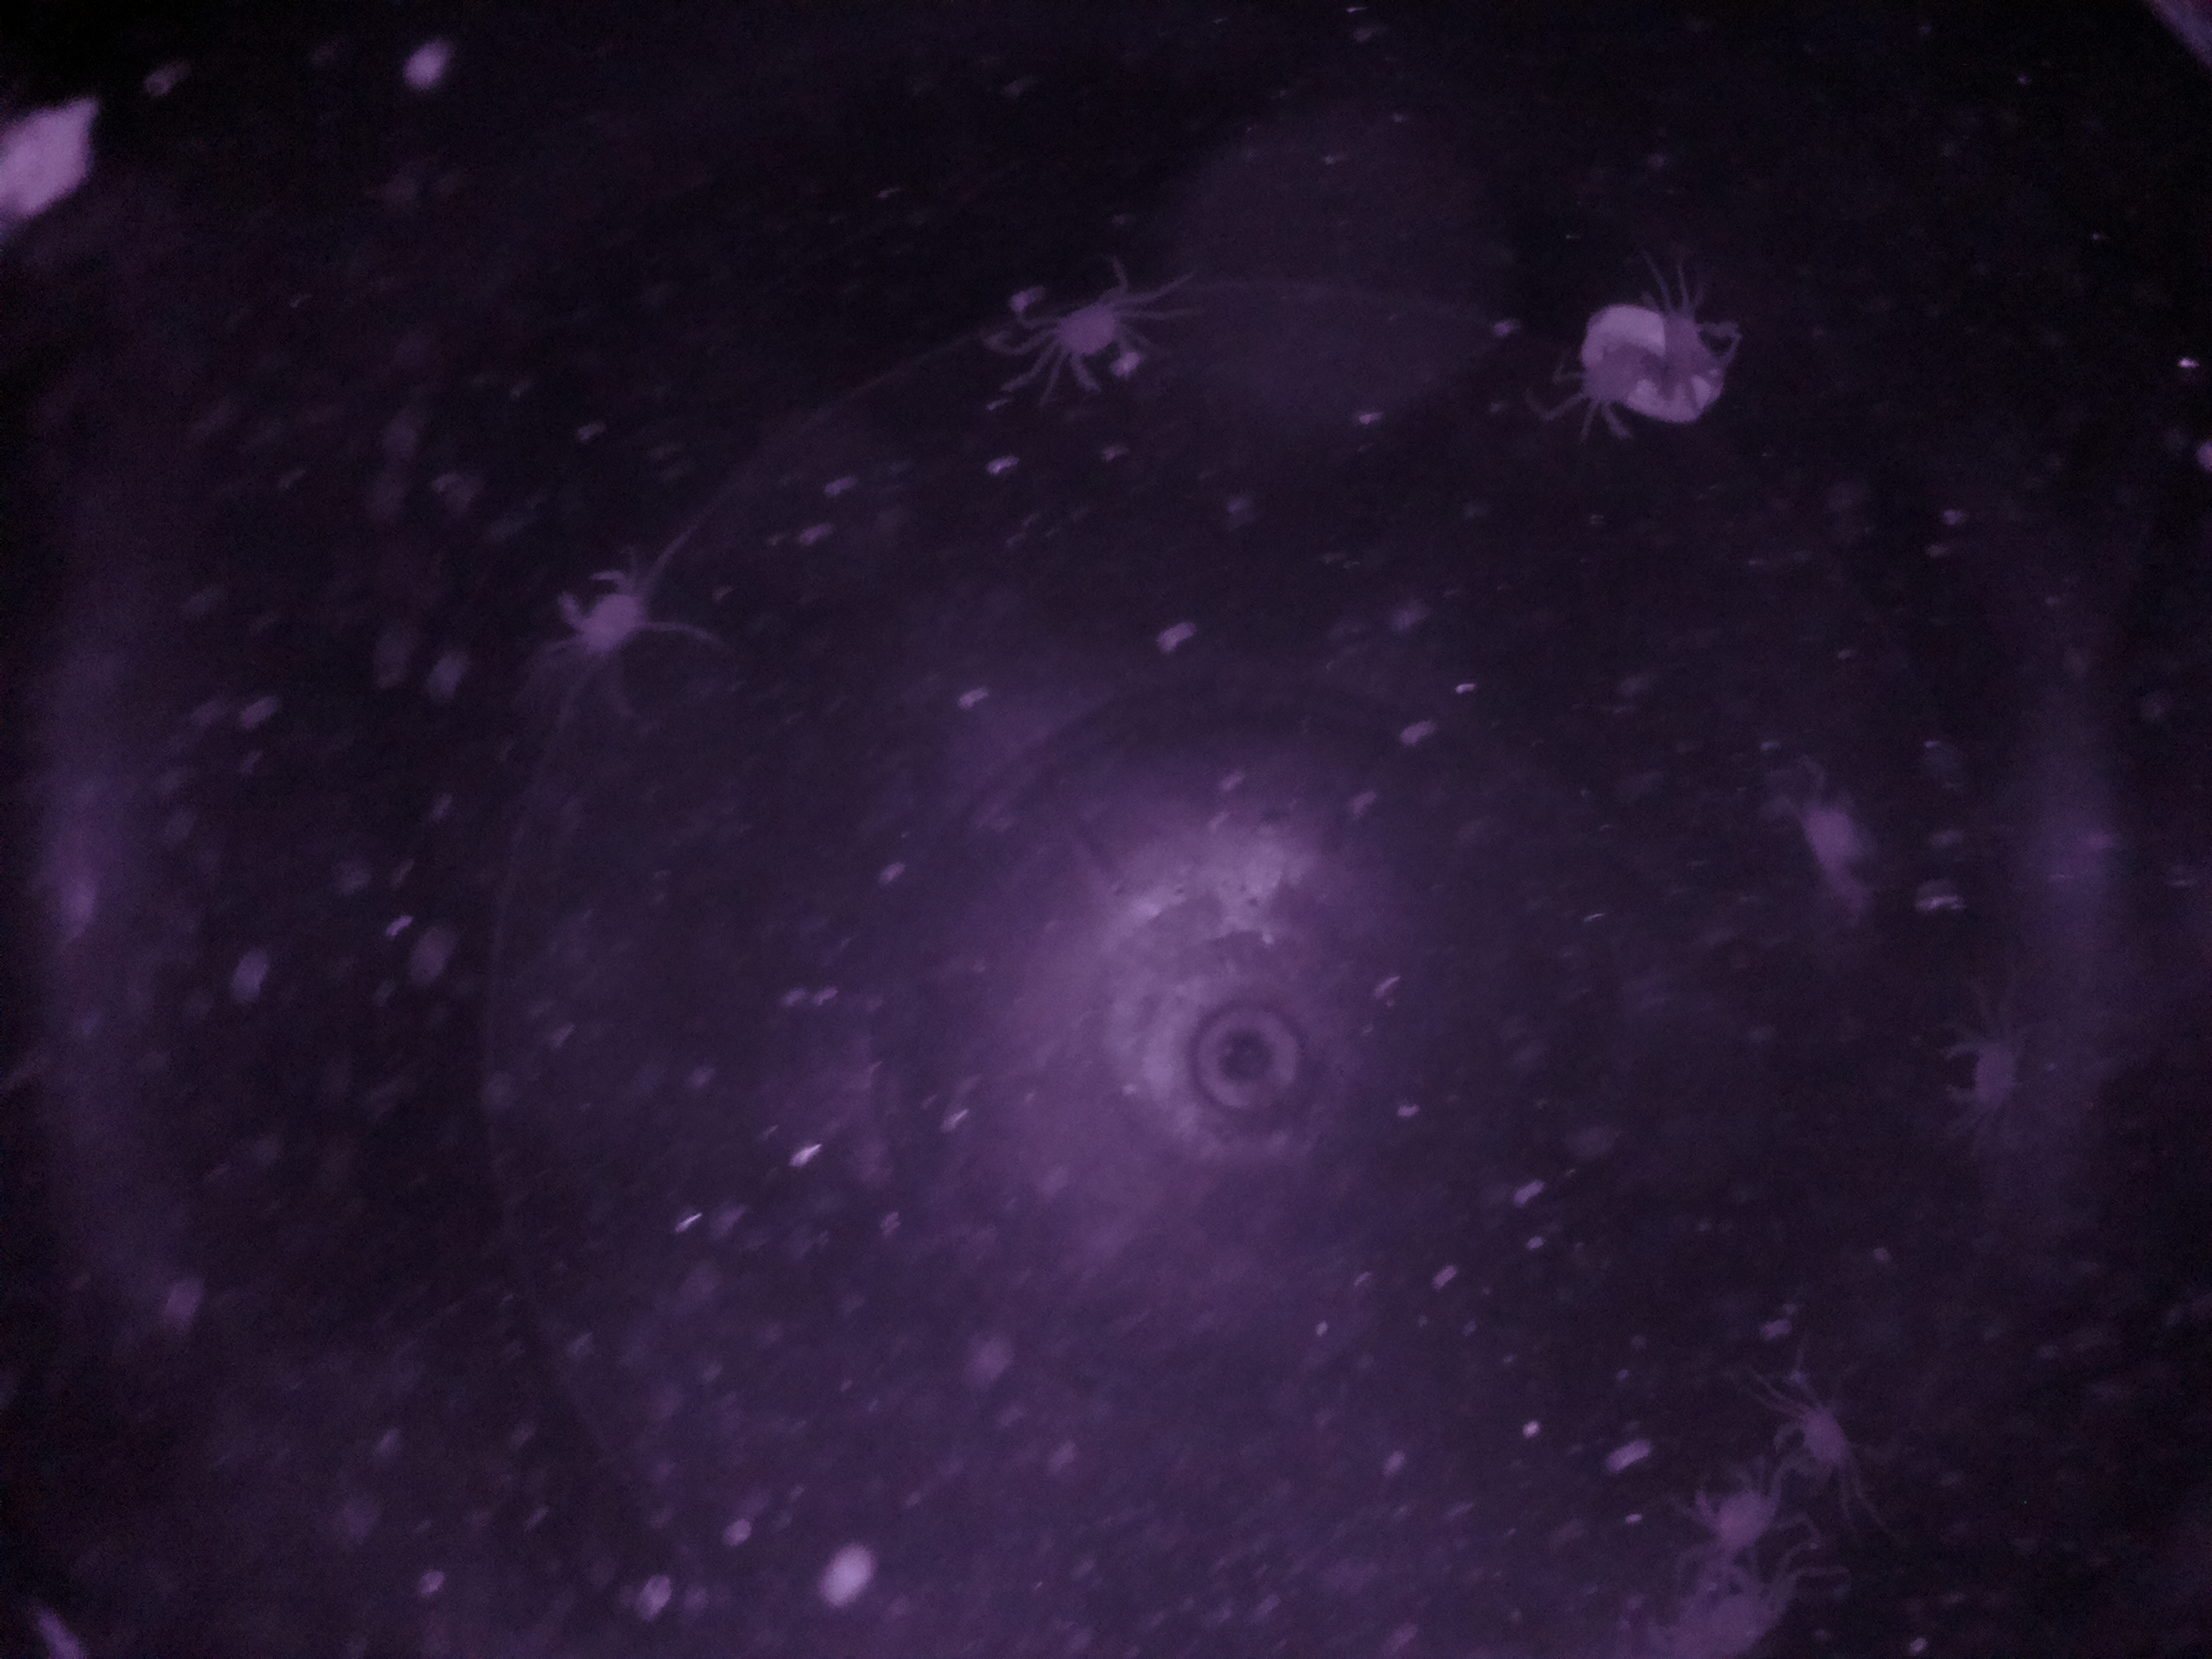Crab: (1925, 1007, 2060, 1127), (1021, 281, 1158, 397), (549, 538, 669, 671)
